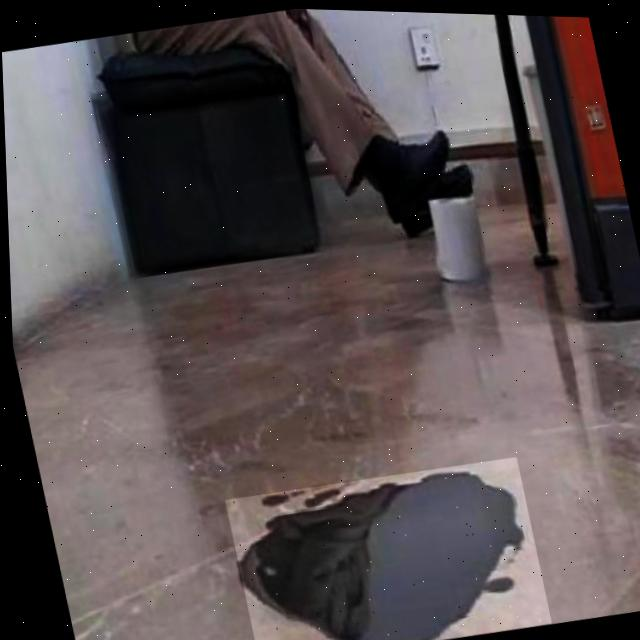spillage: (234, 467, 527, 640)
